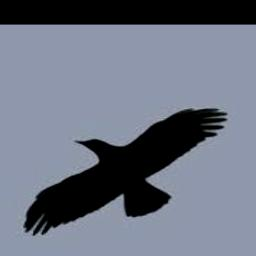Crow: (22, 108, 227, 236)
